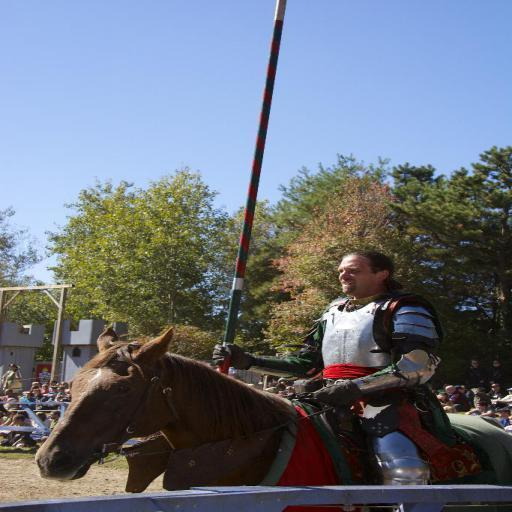horse: (32, 324, 512, 512)
